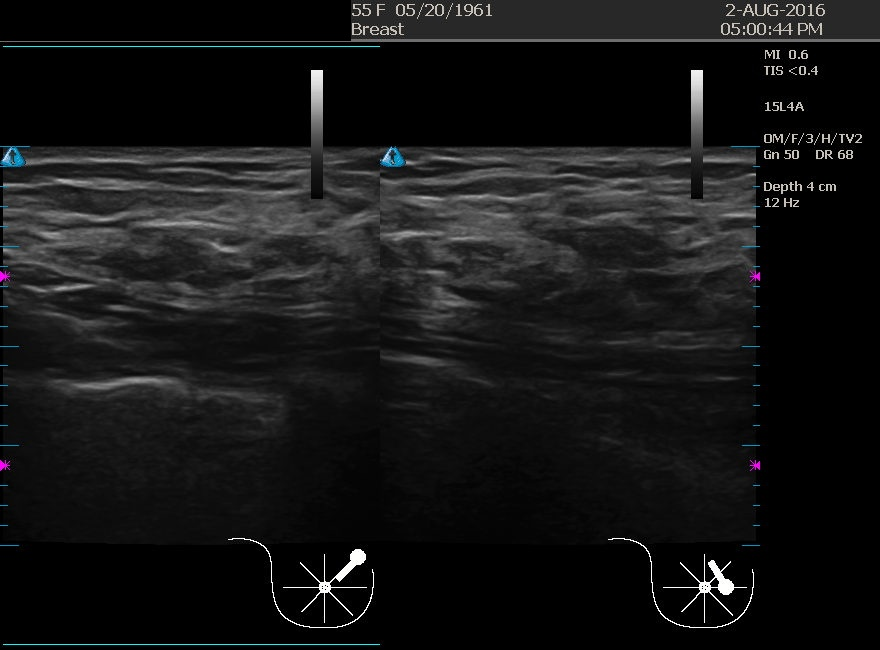BIRADS_3: (82, 210, 282, 410), (493, 203, 693, 403)
